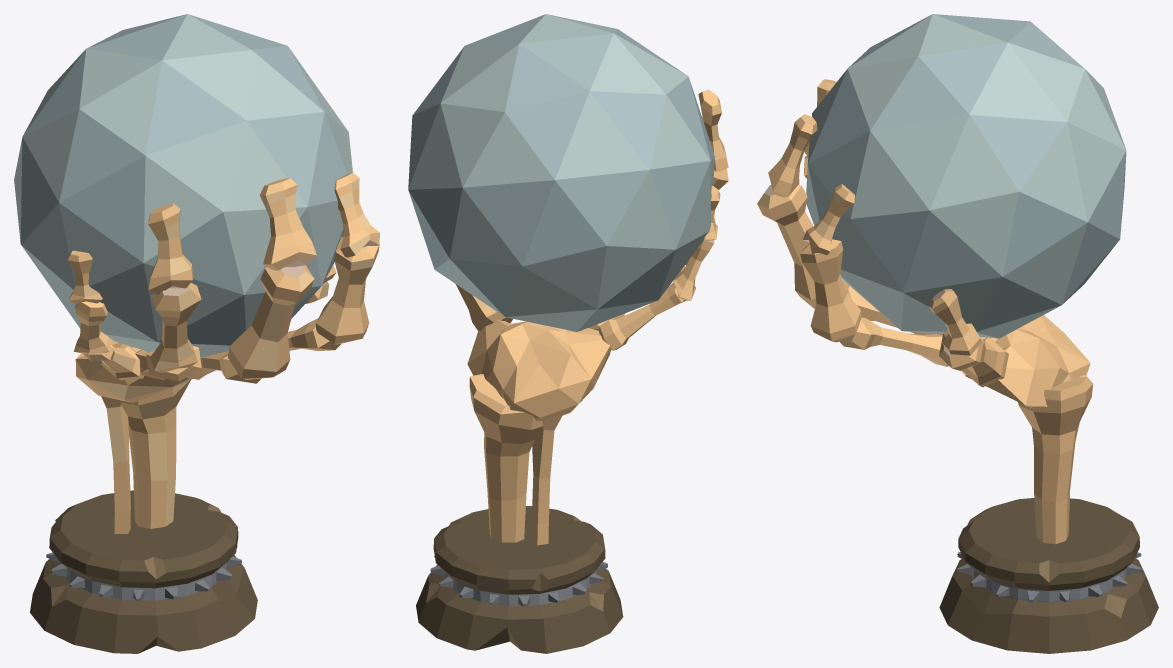
File: WF_LP_HT_Props_MagicBall.fbx
The picture shows the model from 3 angles, left to right: view 1: azimuth 30°, elevation 25°; view 2: azimuth 150°, elevation 25°; view 3: azimuth 270°, elevation 25°; orthographic projection. The views are drawn at different scales.
Parts seen in each view (by area): view 1: WF_LP_HT_Props_MagicBall; view 2: WF_LP_HT_Props_MagicBall; view 3: WF_LP_HT_Props_MagicBall.
Boxes of the visible parts, x1,y1,x2,y2 form: WF_LP_HT_Props_MagicBall: (14,14,379,653); WF_LP_HT_Props_MagicBall: (408,14,728,653); WF_LP_HT_Props_MagicBall: (757,14,1158,653).
Bounding box in the file's own units: 0.2453 × 0.4699 × 0.2975.
